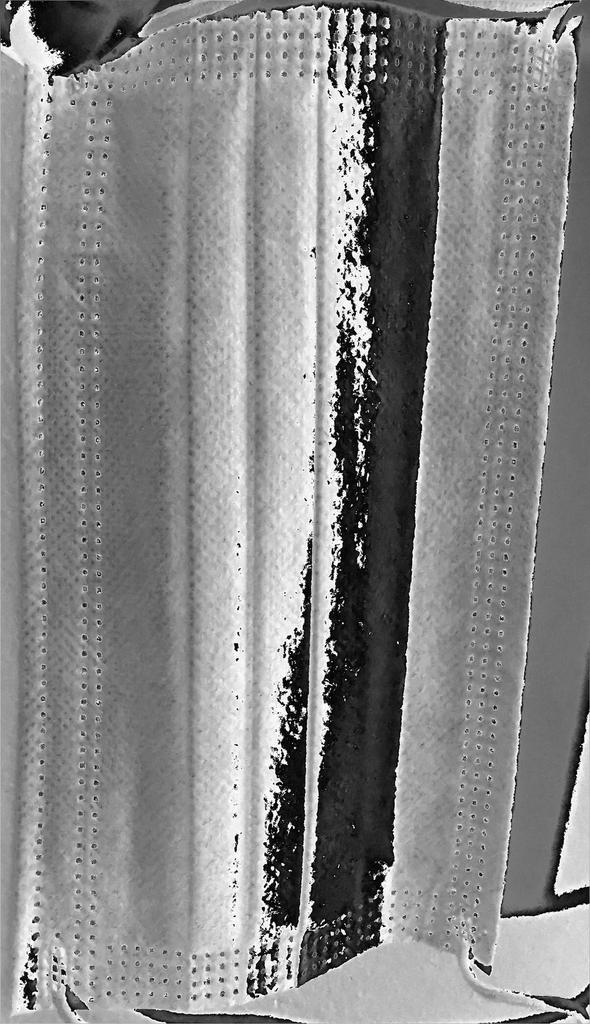High GSM: (142, 74, 450, 909)
